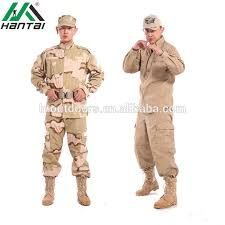uniform: (124, 37, 185, 190), (37, 42, 91, 198)
